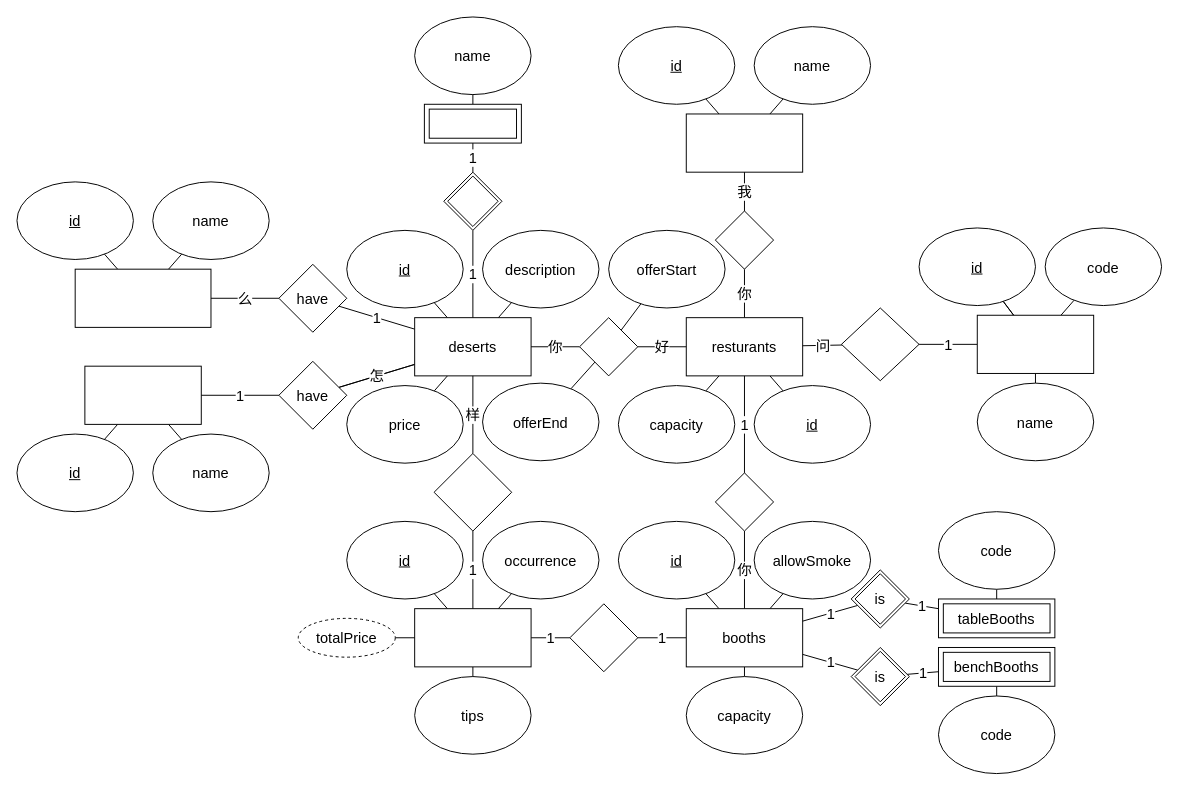
Image size: 1179x791. Some labels were removed from this diagram. The shapes that lost their labels are listed below. From the top down, each one's centre as x and y in pixels, then its label:
the point at 472,123: drinks
the point at 744,142: owners
the point at 472,200: är
the point at 744,239: owns
the point at 142,297: desertCategories
the point at 608,346: offers
the point at 880,344: located
the point at 1035,343: regions
the point at 142,394: toppings
the point at 472,492: contains
the point at 744,501: tillhör
the point at 472,637: bills
the point at 603,637: bellong
